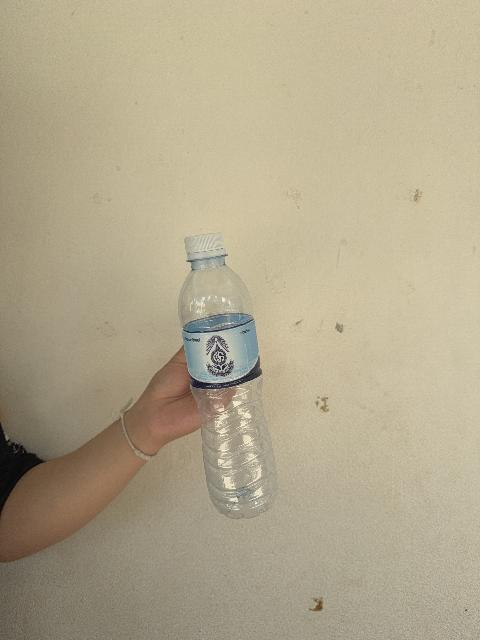bottle: (178, 233, 276, 518)
